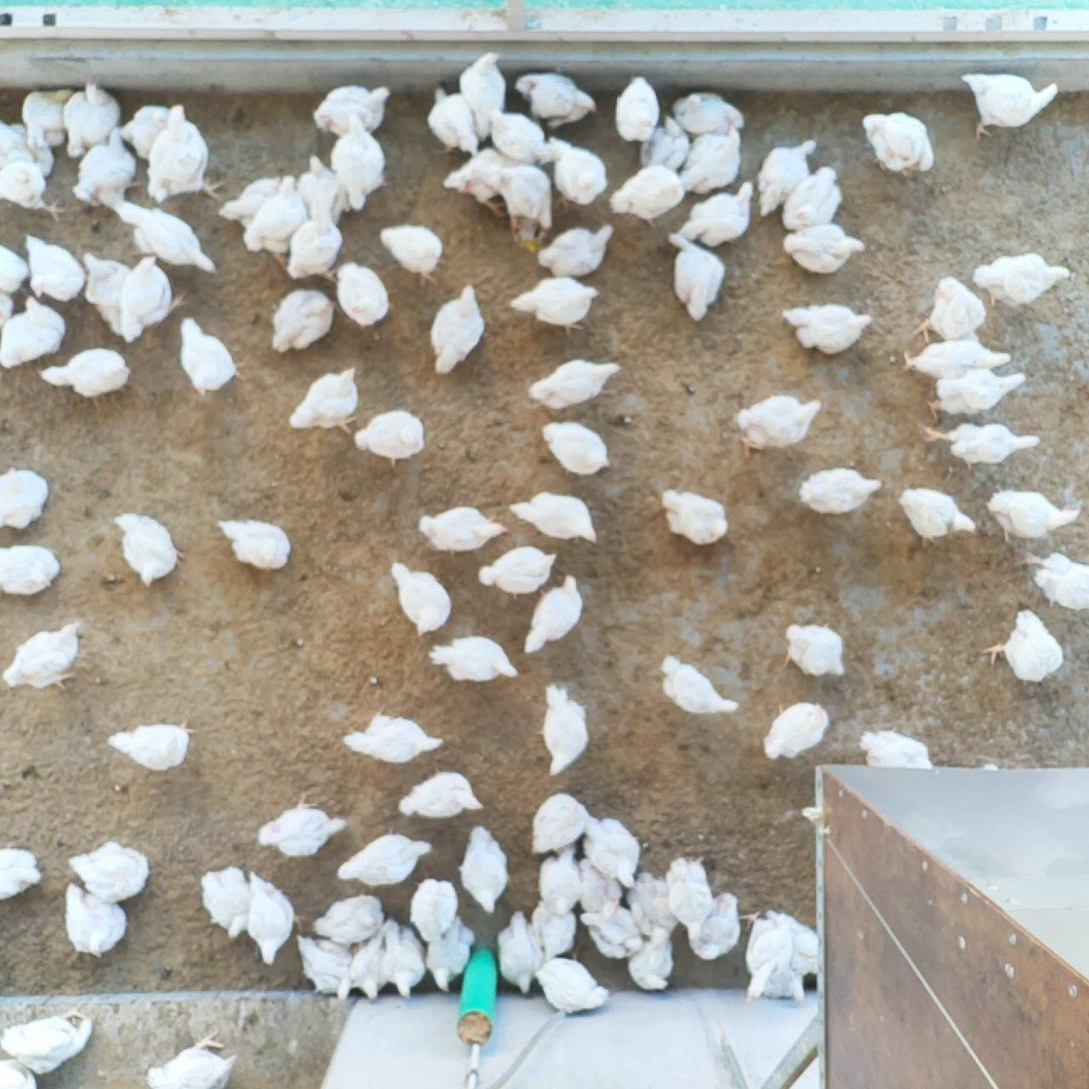chicken: (142, 103, 228, 203), (114, 198, 220, 279), (957, 73, 1063, 141), (241, 173, 309, 277), (978, 607, 1066, 684), (524, 350, 625, 417), (0, 618, 86, 695), (340, 704, 447, 764), (919, 420, 1046, 470), (142, 1025, 241, 1089), (256, 789, 349, 857), (326, 114, 388, 216), (438, 144, 521, 220), (70, 126, 143, 212), (0, 1009, 92, 1077), (860, 107, 943, 182), (673, 176, 758, 249), (733, 393, 822, 462), (925, 362, 1029, 421), (507, 272, 601, 337), (243, 869, 306, 964), (120, 252, 186, 341), (535, 679, 593, 780), (658, 854, 720, 948), (899, 335, 1020, 383), (67, 839, 151, 908), (751, 134, 819, 219), (112, 511, 186, 589), (971, 252, 1074, 308), (517, 572, 586, 655), (175, 316, 247, 395), (335, 830, 433, 888), (608, 164, 691, 232), (395, 761, 485, 823), (426, 283, 486, 376), (735, 905, 793, 1001), (415, 502, 509, 561), (665, 230, 725, 322), (511, 69, 597, 133), (286, 365, 361, 438), (985, 488, 1081, 545), (455, 51, 513, 145), (780, 219, 869, 279), (58, 885, 128, 961), (0, 294, 68, 372), (107, 714, 198, 772), (488, 164, 553, 245), (532, 948, 610, 1015), (780, 303, 875, 358), (60, 78, 124, 159), (680, 888, 743, 970), (35, 346, 130, 400), (545, 135, 612, 211), (897, 487, 980, 548), (424, 634, 521, 686), (775, 162, 844, 235), (575, 893, 649, 961), (911, 275, 986, 342), (457, 821, 510, 915), (286, 196, 343, 283), (657, 656, 739, 716), (677, 122, 745, 193), (478, 543, 559, 602), (20, 232, 86, 304), (349, 409, 432, 466), (311, 81, 391, 140), (81, 252, 134, 341), (582, 812, 644, 888), (390, 561, 451, 638), (537, 218, 614, 279), (480, 102, 552, 167), (424, 83, 483, 162), (623, 870, 681, 950), (510, 489, 599, 541), (378, 222, 447, 289), (269, 289, 339, 355), (659, 485, 733, 547), (424, 914, 482, 993), (541, 419, 617, 478), (216, 516, 295, 571), (758, 699, 828, 761), (296, 151, 352, 228), (798, 468, 886, 517), (0, 159, 65, 225), (295, 932, 356, 1002), (494, 911, 545, 994), (526, 789, 589, 856), (1020, 550, 1089, 611), (765, 908, 821, 979), (217, 173, 283, 233), (334, 259, 391, 328), (202, 864, 254, 938), (406, 874, 459, 946), (782, 620, 845, 680), (314, 891, 388, 942), (21, 88, 78, 154), (383, 923, 429, 1001), (623, 926, 674, 996), (532, 842, 578, 918), (670, 93, 745, 139), (857, 730, 935, 774), (0, 117, 57, 177), (636, 114, 692, 175), (0, 542, 62, 597), (573, 854, 626, 918), (0, 464, 51, 530), (349, 924, 390, 1004), (611, 71, 657, 141), (117, 104, 175, 159), (760, 950, 809, 1004), (0, 845, 41, 904), (0, 240, 31, 296), (0, 1055, 39, 1089)
